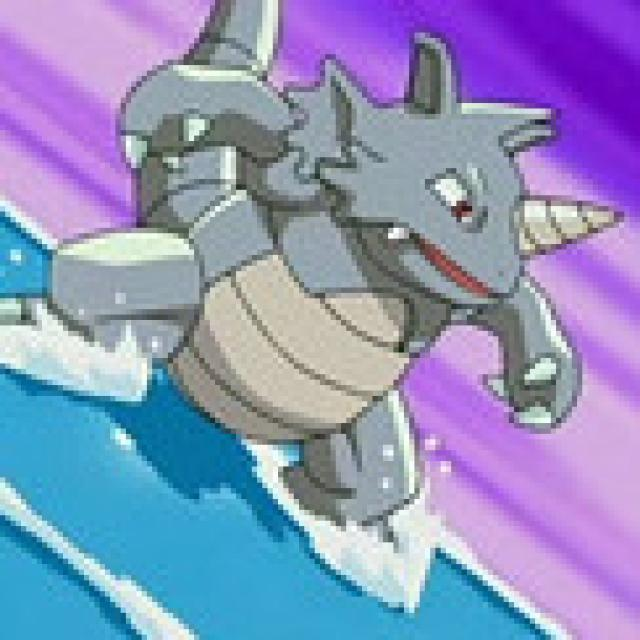Rhydon: (55, 35, 593, 497)
